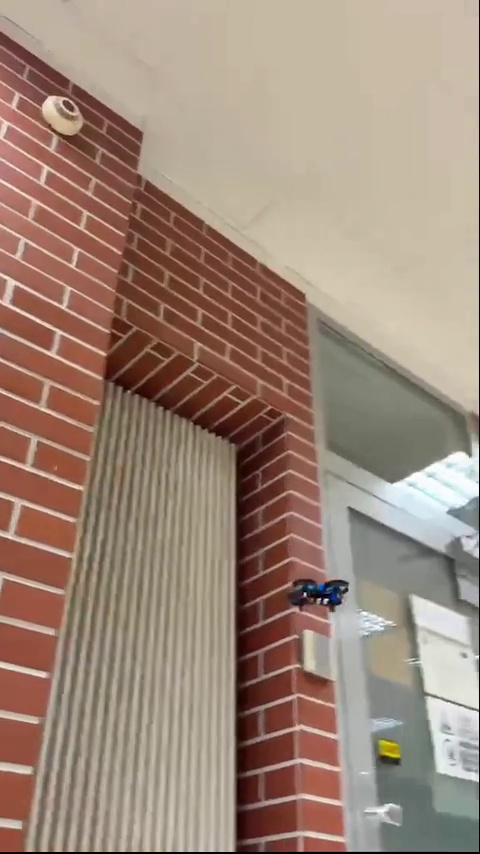drone: (287, 573, 351, 612)
